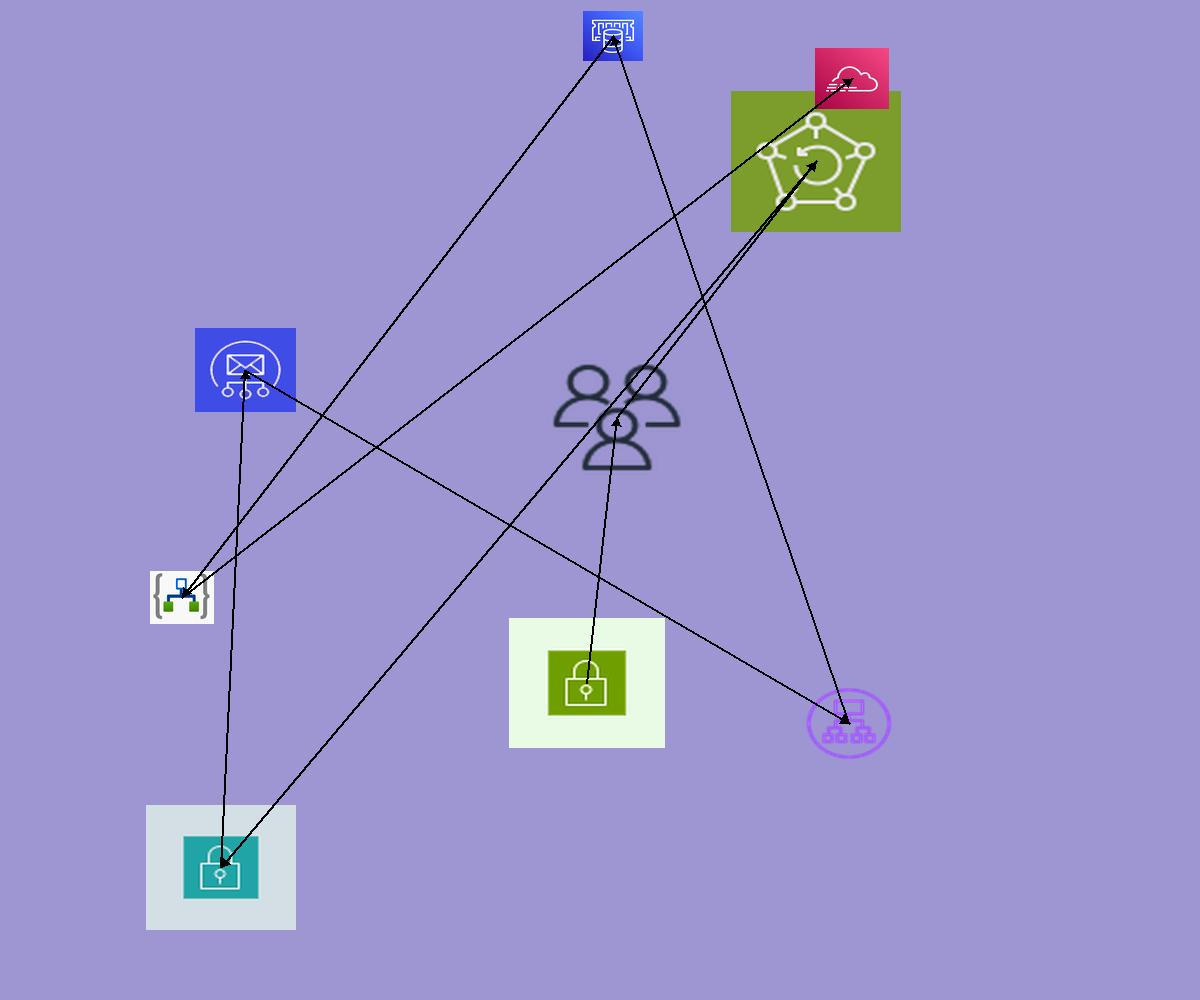AWS-Backup: (731, 91, 901, 232)
AWS-CloudTrail: (815, 48, 889, 109)
AWS-ElastiCache: (583, 11, 643, 61)
AWS-Private-subnet: (146, 805, 296, 930)
AWS-Public-subnet: (509, 618, 665, 748)
AWS-Res_Elastic-Load-Balancing_Application-Load-Balancer: (803, 685, 895, 762)
AWS-Res_Users: (548, 360, 686, 475)
AWS-Simple-Email-Service: (195, 328, 296, 412)
Azure_integration-204-Logic-Apps: (150, 571, 214, 624)
